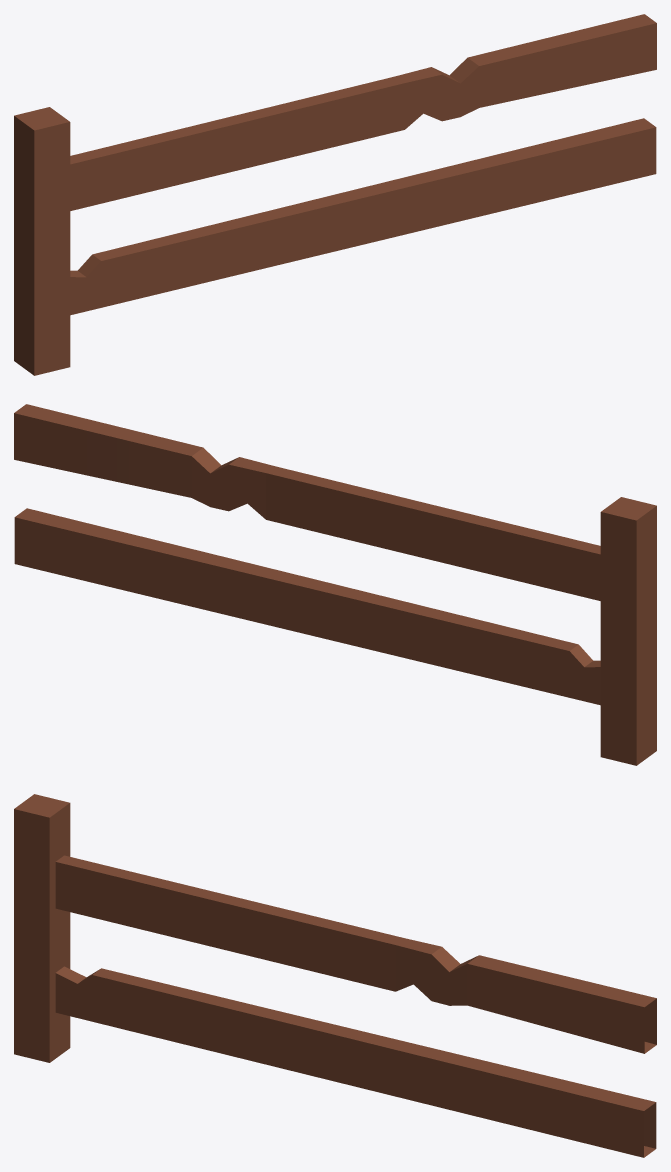
Rendered from Fence1.fbx.
3 views of the same model, one above another, from view 1: azimuth 30°, elevation 25°; view 2: azimuth 150°, elevation 25°; view 3: azimuth 330°, elevation 25° (orthographic).
Visible parts, largest first — view 1: Fence_Cube.001; view 2: Fence_Cube.001; view 3: Fence_Cube.001.
Part boxes in pixels (x1,y1,x2,y2): Fence_Cube.001: (14, 14, 656, 375); Fence_Cube.001: (14, 404, 656, 765); Fence_Cube.001: (14, 794, 656, 1157).
Size of the model in its own units: 293 by 110 by 16.55.
